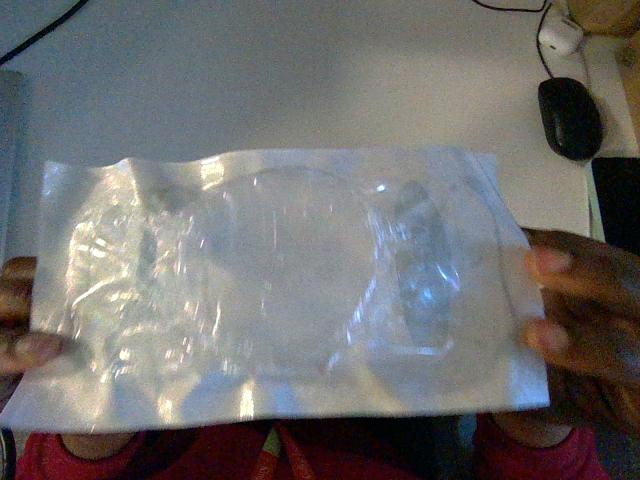gallipot: (0, 147, 547, 431)
